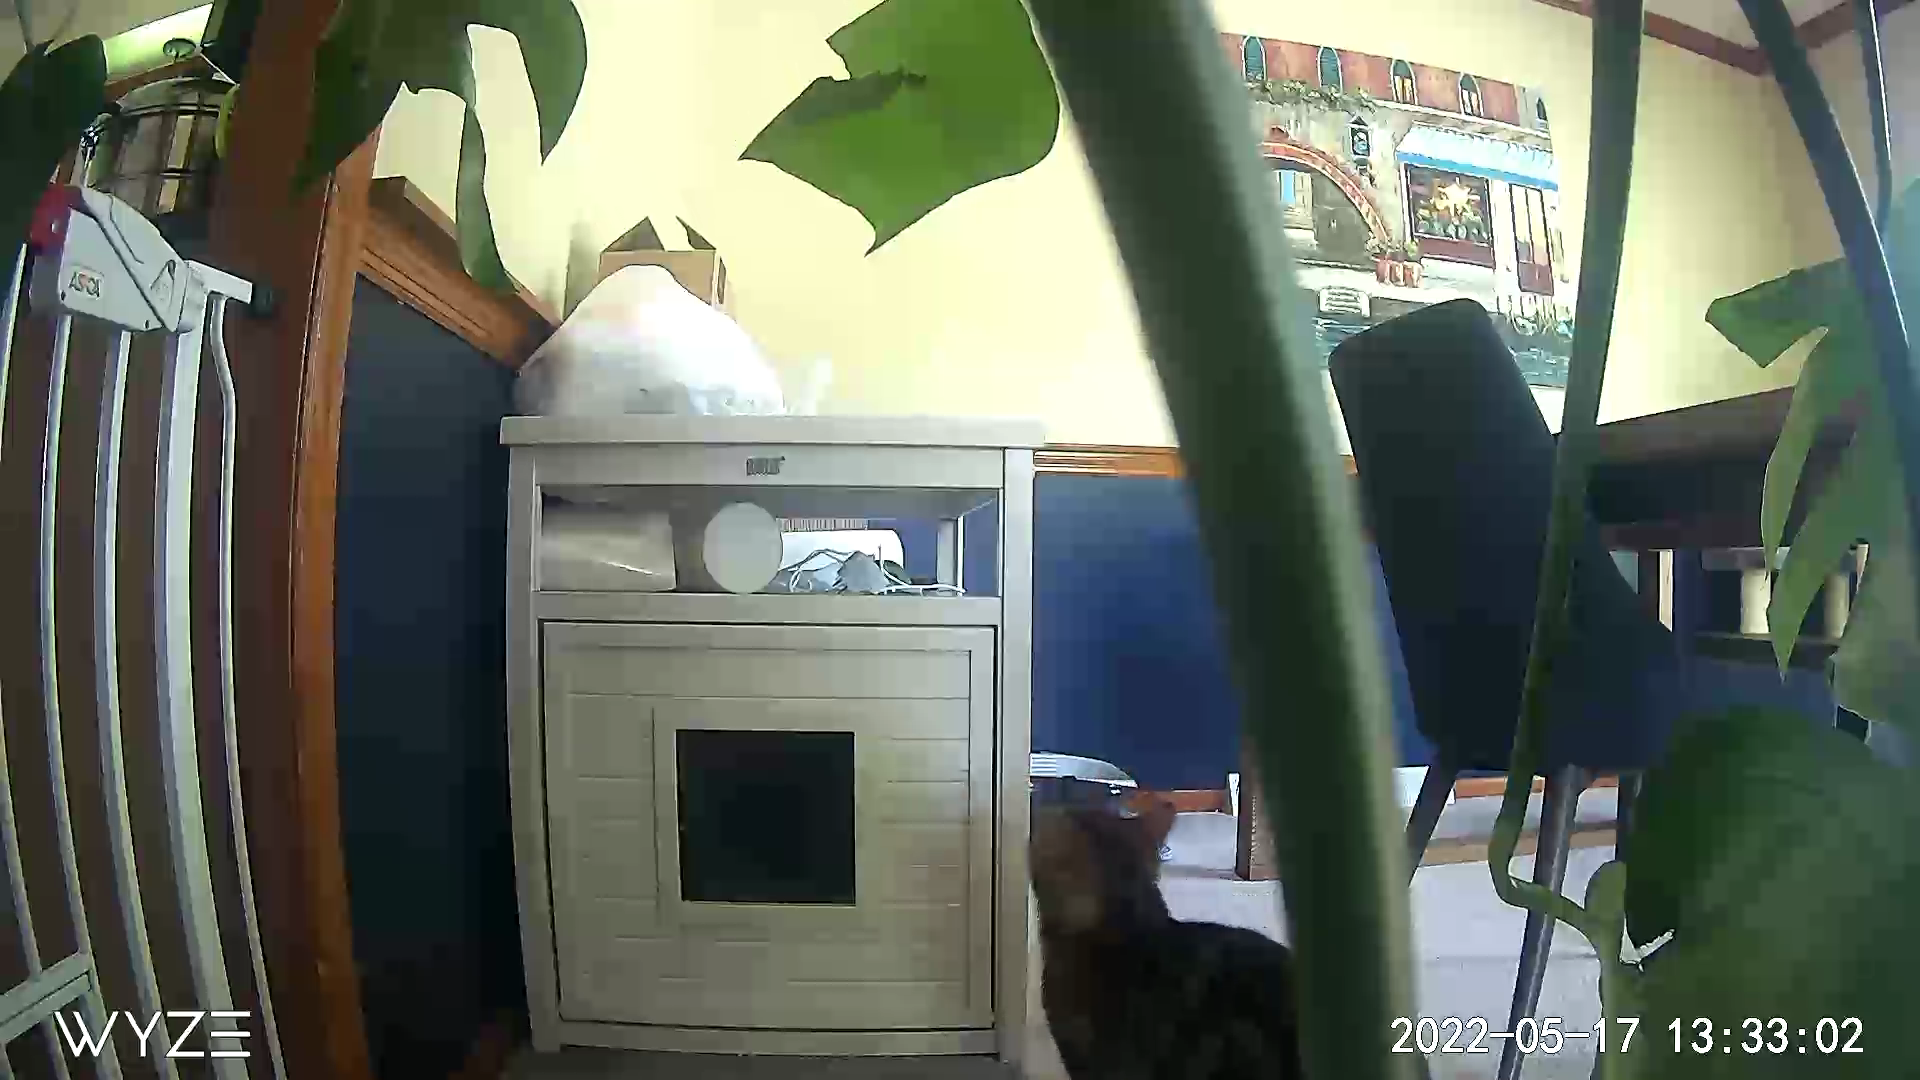sparky: (1004, 800, 1288, 1075)
